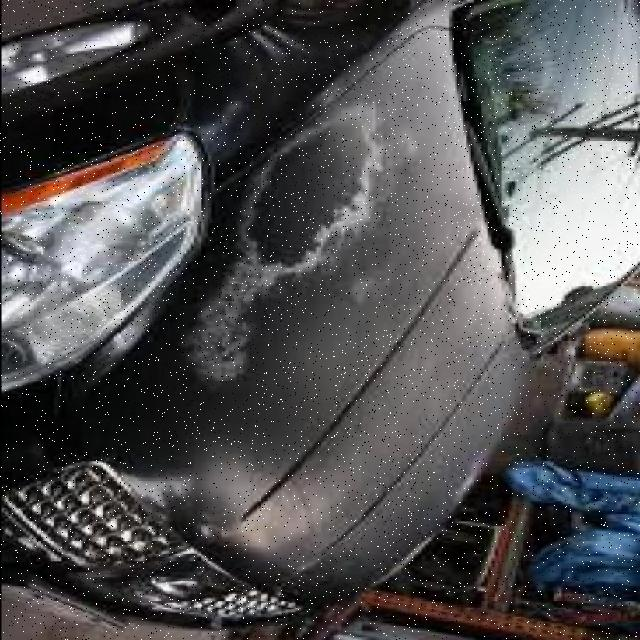damage: (182, 96, 400, 382)
